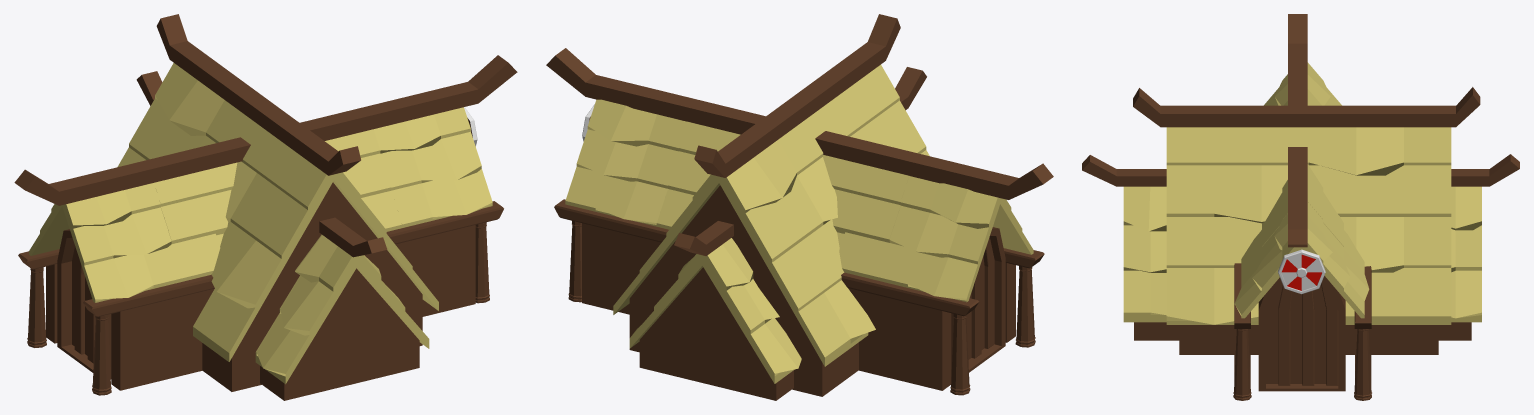
The model's file is petite_maison_viking.fbx.
3 renders of one model, left to right at view 1: azimuth 30°, elevation 25°; view 2: azimuth 150°, elevation 25°; view 3: azimuth 270°, elevation 25°, orthographic. The views are drawn at different scales.
Visible parts, largest first — view 1: Plan.003, Plan, Plan.015, Plan.002, Plan.011, Plan.005, Plan.014, Plan.001, Plan.008, Plan.017, Plan.004, Plan.012 (+3 smaller); view 2: Plan.003, Plan, Plan.015, Plan.002, Plan.012, Plan.014, Plan.005, Plan.001, Plan.007, Plan.017, Plan.004, Plan.011 (+3 smaller); view 3: Plan, Plan.005, Plan.003, Plan.016, Plan.001, Plan.014, Plan.015, Plan.004, Plan.018, Plan.002, Plan.009, Plan.006 (+2 smaller).
Part boxes in pixels (left/top/right/bottom): Plan.003: left=29, top=107, right=492, bottom=302; Plan: left=117, top=63, right=438, bottom=361; Plan.015: left=14, top=55, right=517, bottom=205; Plan.002: left=260, top=268, right=419, bottom=400; Plan.011: left=83, top=274, right=214, bottom=390; Plan.005: left=255, top=234, right=429, bottom=384; Plan.014: left=202, top=182, right=422, bottom=391; Plan.001: left=156, top=14, right=360, bottom=175; Plan.008: left=386, top=201, right=503, bottom=316; Plan.017: left=57, top=229, right=111, bottom=379; Plan.004: left=136, top=71, right=387, bottom=257; Plan.012: left=18, top=249, right=59, bottom=343; Plan.003: left=565, top=99, right=1033, bottom=302; Plan: left=613, top=64, right=929, bottom=366; Plan.015: left=546, top=48, right=1053, bottom=199; Plan.002: left=639, top=267, right=793, bottom=400; Plan.012: left=841, top=272, right=978, bottom=390; Plan.014: left=629, top=185, right=858, bottom=396; Plan.005: left=629, top=238, right=801, bottom=383; Plan.001: left=694, top=14, right=900, bottom=177; Plan.007: left=554, top=199, right=668, bottom=314; Plan.017: left=951, top=227, right=1005, bottom=376; Plan.004: left=674, top=67, right=926, bottom=255; Plan.011: left=1003, top=248, right=1044, bottom=342; Plan: left=1166, top=127, right=1451, bottom=324; Plan.005: left=1123, top=186, right=1481, bottom=322; Plan.003: left=1234, top=62, right=1369, bottom=318; Plan.016: left=1258, top=276, right=1345, bottom=391; Plan.001: left=1133, top=87, right=1480, bottom=127; Plan.014: left=1179, top=325, right=1438, bottom=354; Plan.015: left=1288, top=14, right=1307, bottom=247; Plan.004: left=1082, top=154, right=1519, bottom=186; Plan.018: left=1278, top=249, right=1325, bottom=294; Plan.002: left=1134, top=322, right=1471, bottom=340; Plan.009: left=1233, top=329, right=1251, bottom=400; Plan.006: left=1354, top=329, right=1371, bottom=400.
Bounding box in the file's own units: 614 × 283 × 508.
